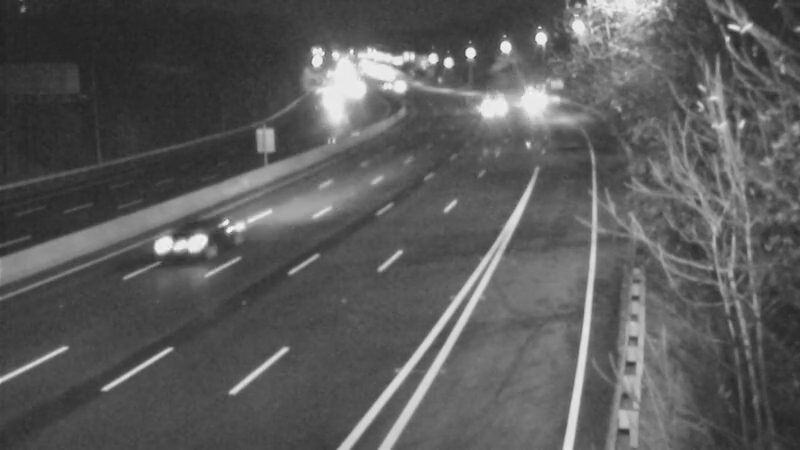vehicle: (139, 206, 219, 286), (508, 77, 558, 127), (462, 82, 512, 132)
